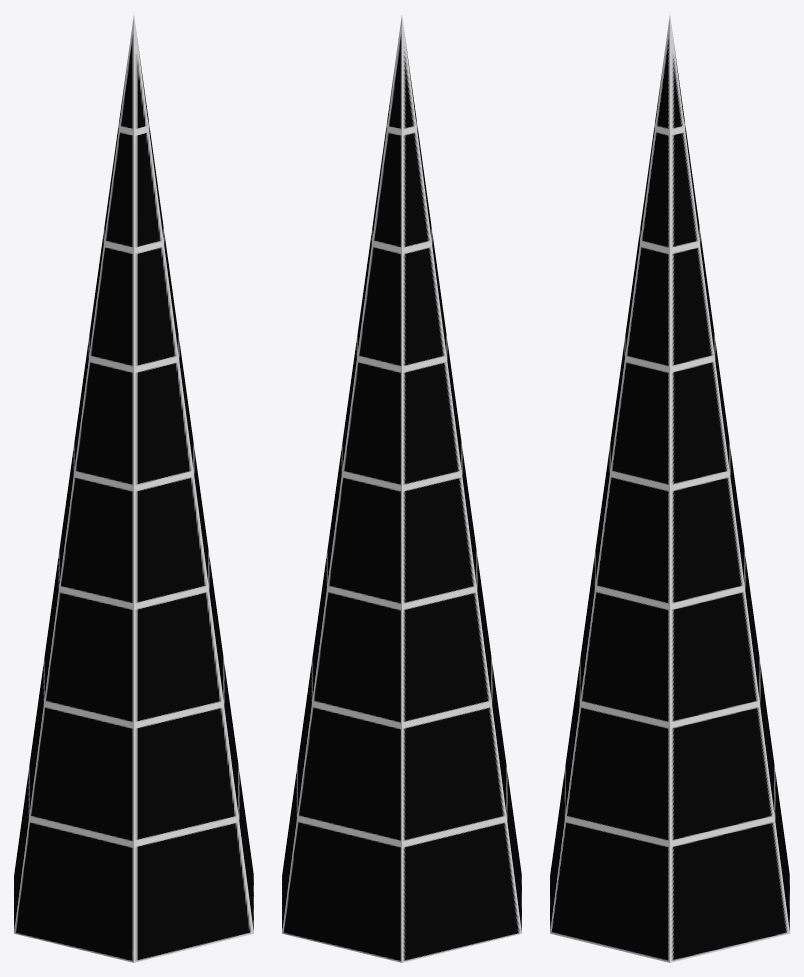
The model's file is enemy1.dae.
3 views of the same model, side by side, from view 1: azimuth 30°, elevation 25°; view 2: azimuth 150°, elevation 25°; view 3: azimuth 270°, elevation 25° (orthographic).
Visible parts, largest first — view 1: Cone; view 2: Cone; view 3: Cone.
Boxes of the visible parts, box(x1,y1,x2,y2) form: Cone: box(14, 15, 253, 962); Cone: box(282, 15, 521, 962); Cone: box(550, 15, 789, 962).
Bounding box in the file's own units: 1.01 × 0.8788 × 3.6.
1 material, 1 textured.
